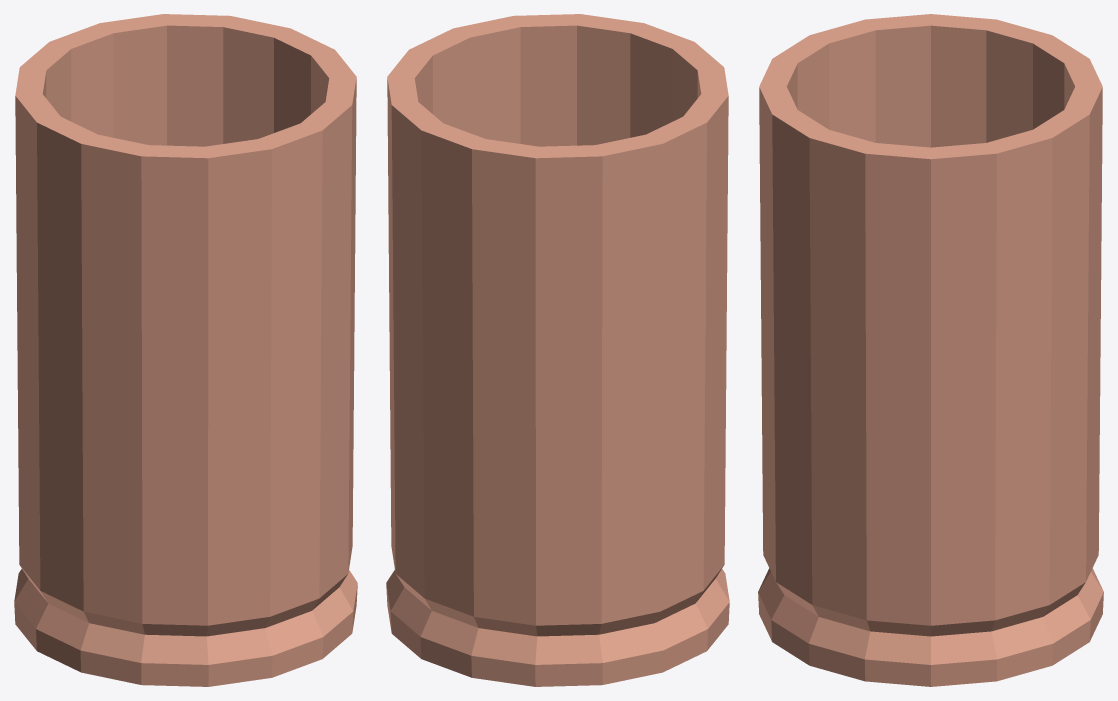
The model's file is 9x18mm Makarov Shell.fbx.
The picture shows the model from 3 angles, left to right: view 1: azimuth 30°, elevation 25°; view 2: azimuth 150°, elevation 25°; view 3: azimuth 270°, elevation 25°; orthographic projection.
Parts seen in each view (by area): view 1: Cylinder.009; view 2: Cylinder.009; view 3: Cylinder.009.
Boxes of the visible parts, bbox=[...] form: Cylinder.009: bbox=[14, 14, 357, 686]; Cylinder.009: bbox=[386, 14, 729, 686]; Cylinder.009: bbox=[758, 14, 1103, 686].
Size of the model in its own units: 1.07 by 1.82 by 1.07.
